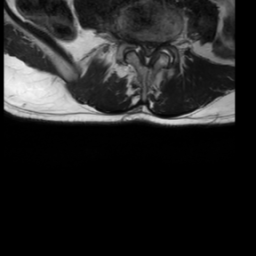CCS_normal: (144, 37, 150, 70)
LFS_severe_stenosis: (157, 33, 164, 54)
LLS_severe_stenosis: (150, 36, 157, 59)
RFS_severe_stenosis: (130, 30, 138, 54)
RLS_severe_stenosis: (138, 34, 144, 56)
